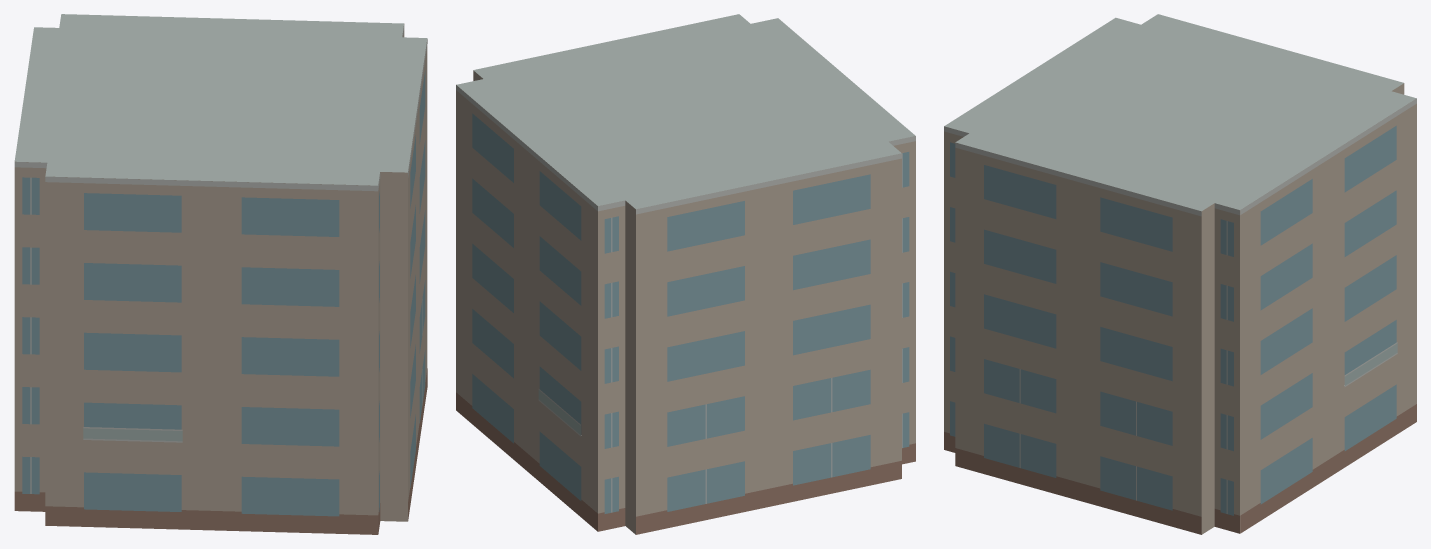
Rendered from survey-upis-32785305.glb.
3 views of the same model, side by side, from view 1: azimuth 30°, elevation 25°; view 2: azimuth 150°, elevation 25°; view 3: azimuth 270°, elevation 25° (orthographic). The views are drawn at different scales.
Parts seen in each view (by area): view 1: survey-upis-32785305.tmp; view 2: survey-upis-32785305.tmp; view 3: survey-upis-32785305.tmp.
Boxes of the visible parts, box(x1,y1,x2,y2) form: survey-upis-32785305.tmp: box(14, 14, 427, 534); survey-upis-32785305.tmp: box(456, 14, 915, 534); survey-upis-32785305.tmp: box(944, 14, 1416, 534).
Size of the model in its own units: 19.95 by 15.25 by 20.2.
